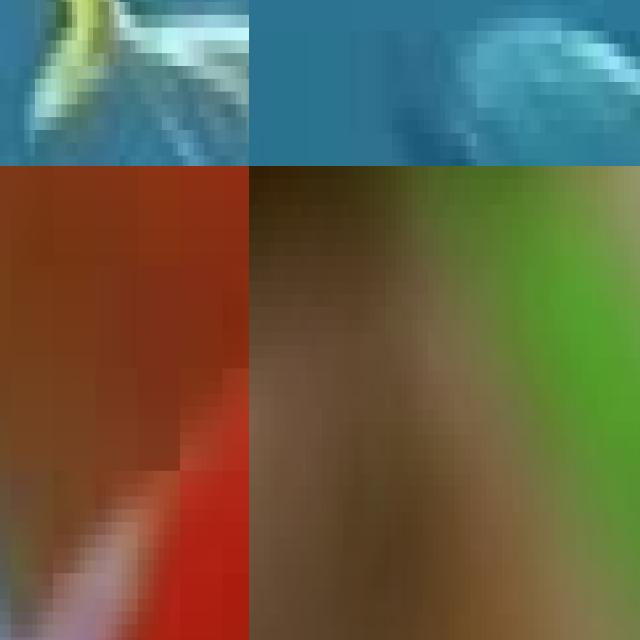fish: (249, 166, 640, 640), (0, 0, 249, 166)
